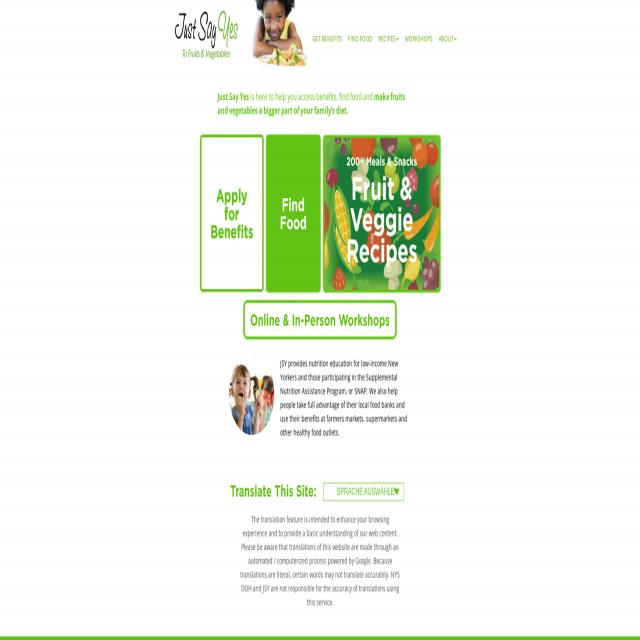button: (324, 136, 440, 292), (201, 136, 263, 291), (267, 136, 320, 292), (173, 1, 239, 64), (251, 0, 308, 68), (230, 354, 274, 435), (309, 14, 345, 44), (402, 14, 436, 44), (345, 14, 375, 44), (375, 14, 402, 44), (436, 14, 459, 44)
field: (323, 482, 404, 500)
